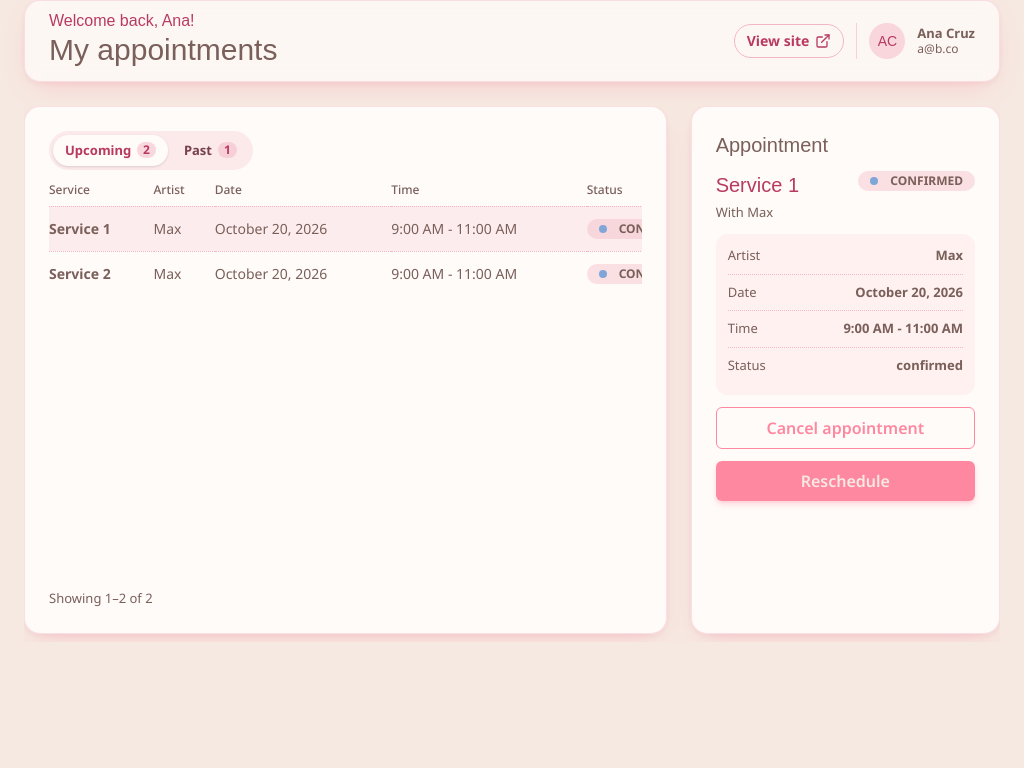
Scenario: MyAppointments › lists upcoming and past appointments and shows the chosen one beside the list
Click the button "Service 2" at (80, 274), box [49, 264, 111, 284]
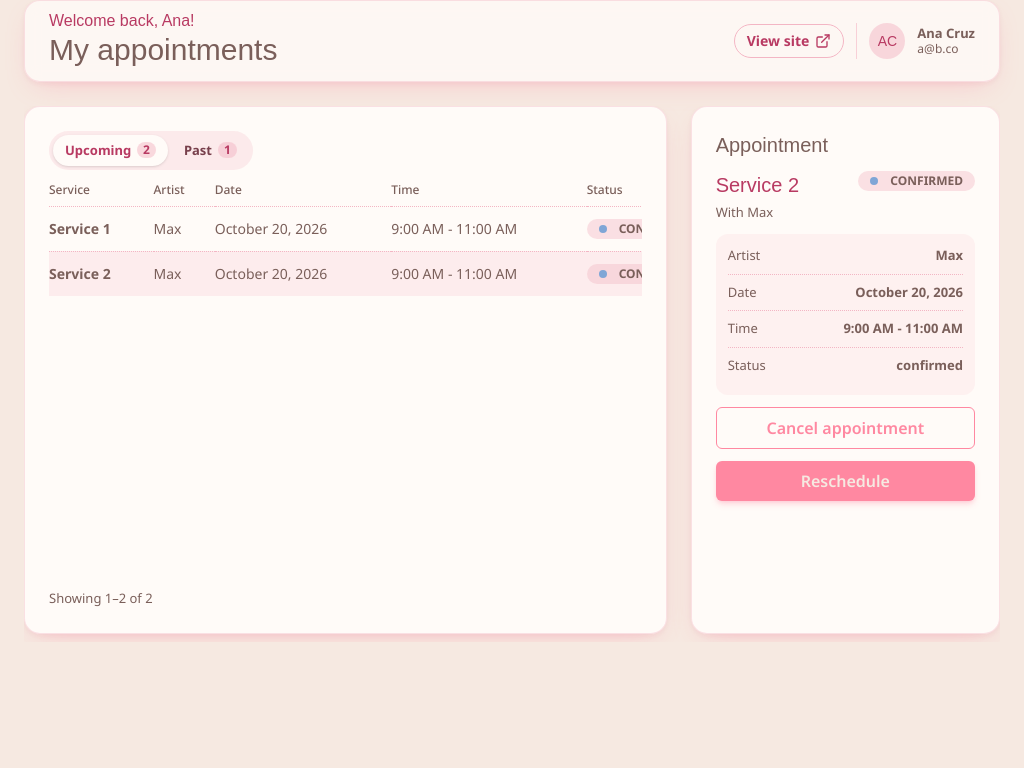
Expected: the element named "Service 2 details" is shown, [691, 106, 1000, 634]
